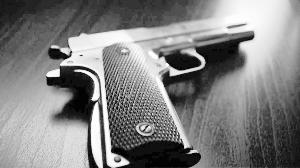handgun: (43, 18, 259, 164)
